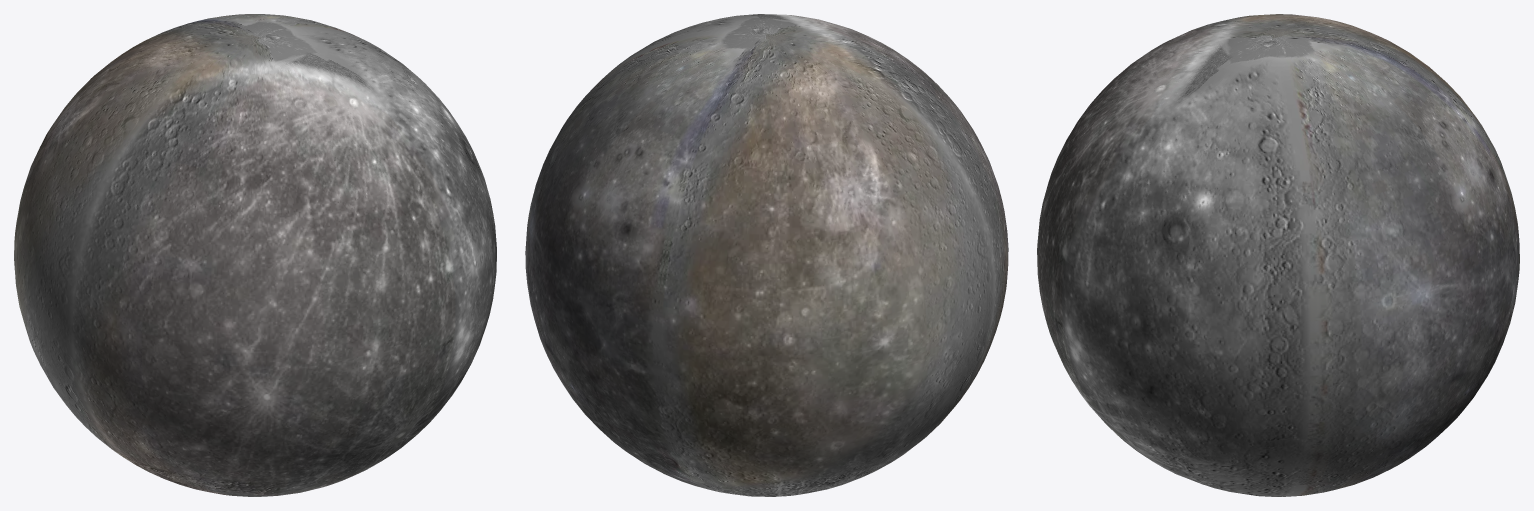
Rendered from mercury.glb.
3 renders of one model, left to right at view 1: azimuth 30°, elevation 25°; view 2: azimuth 150°, elevation 25°; view 3: azimuth 270°, elevation 25°, orthographic.
Visible parts, largest first — view 1: Object_2; view 2: Object_2; view 3: Object_2.
Boxes of the visible parts, box(x1,y1,x2,y2) form: Object_2: box(14, 14, 496, 496); Object_2: box(525, 14, 1008, 496); Object_2: box(1037, 14, 1519, 496).
Bounding box in the file's own units: 2 × 2 × 2.
1 material, 1 textured.
